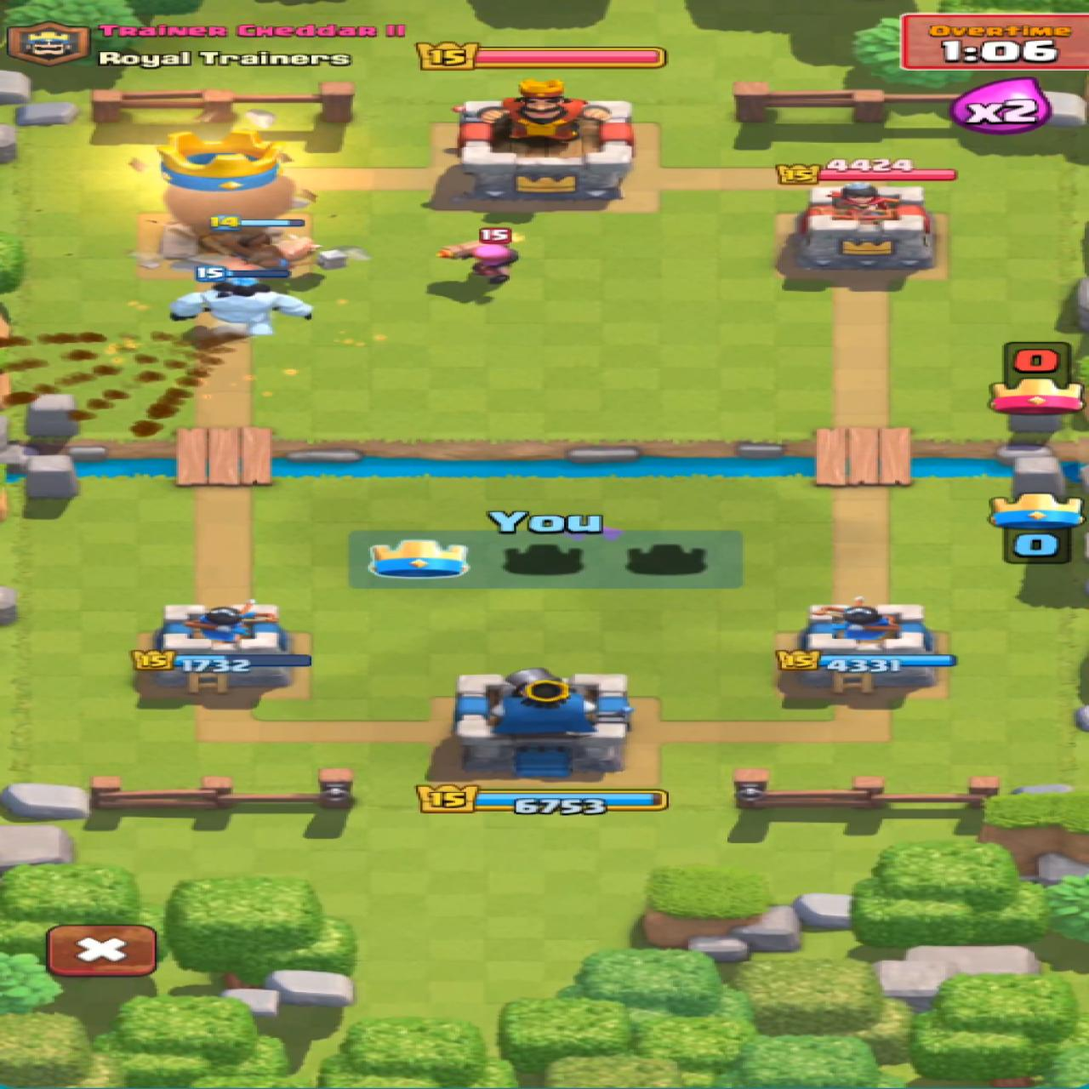Enemy-Firecracker: (440, 228, 518, 285)
Enemy-KingTower-Activated: (457, 80, 632, 201)
Enemy-PrincessTower: (791, 180, 932, 276)
